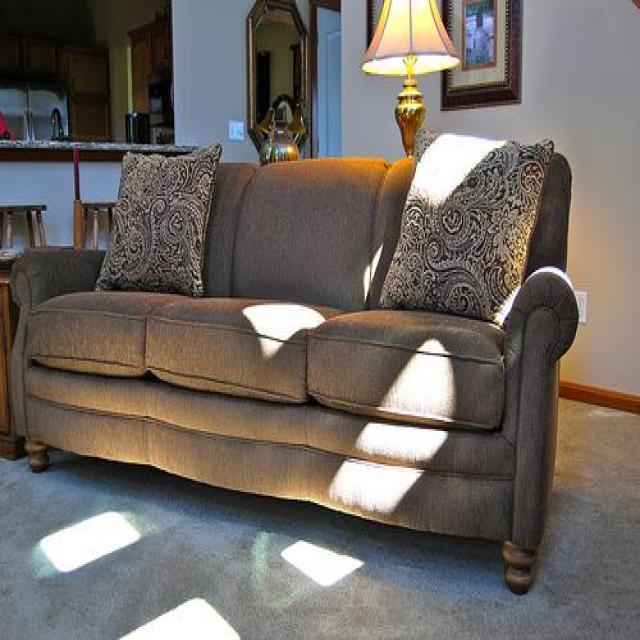sofa: (5, 150, 580, 597)
